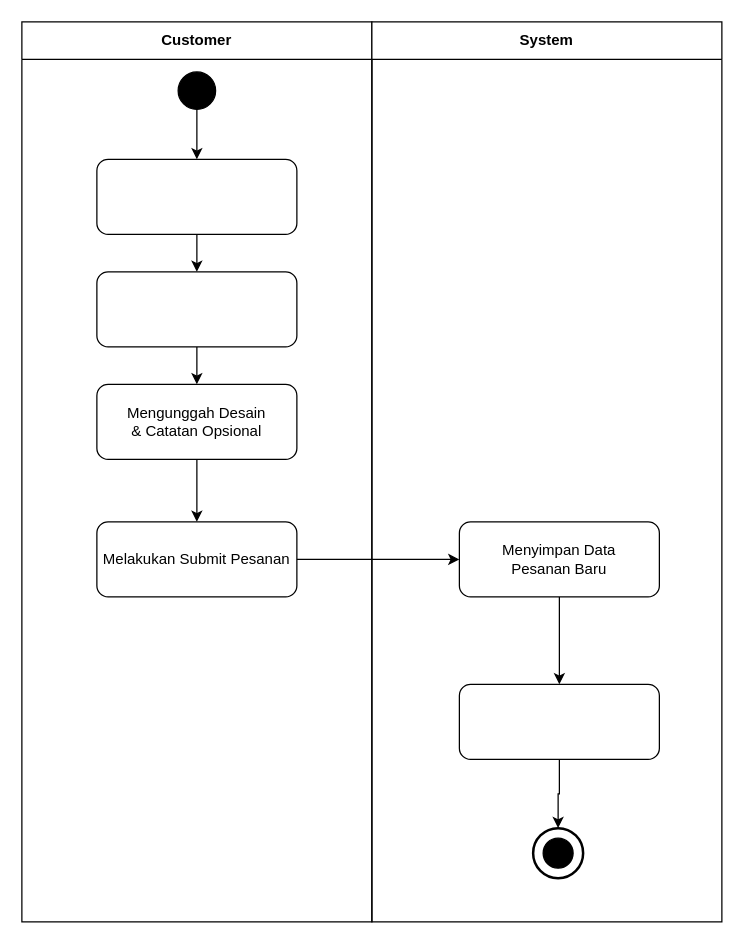
The diagram is 744 pixels wide and 944 high, and some of its shapes have lost their labels. The shapes that lost their labels are listed below. From the top down, each one's centre as x and y in pixels, then its label:
At point 196,196: "Melakukan Login Akun".
At point 196,309: "Memilih Spesifikasi Custom Box".
At point 558,721: "Set Status Pesanan: WAITING_PAYMENT".
